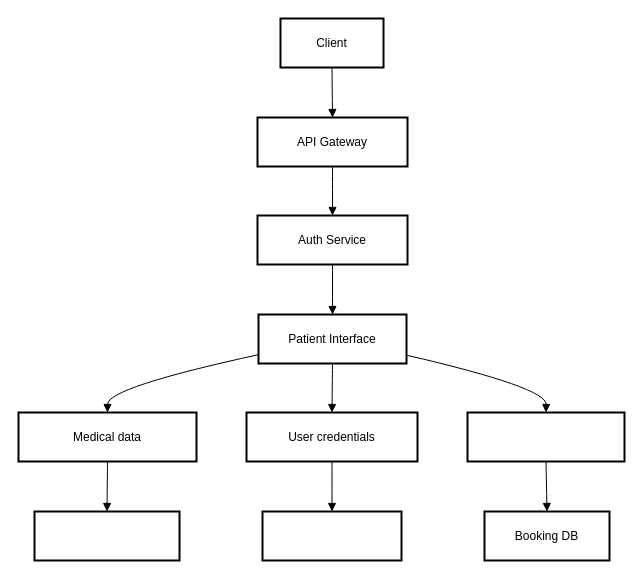
Image size: 642x578. Some labels were removed from this diagram. The shapes that lost their labels are listed below. From the top down, each one's centre as x and y in pixels, then its label:
the point at 545,436: Booking Session
the point at 106,535: Medical Data DB
the point at 331,535: User DB
